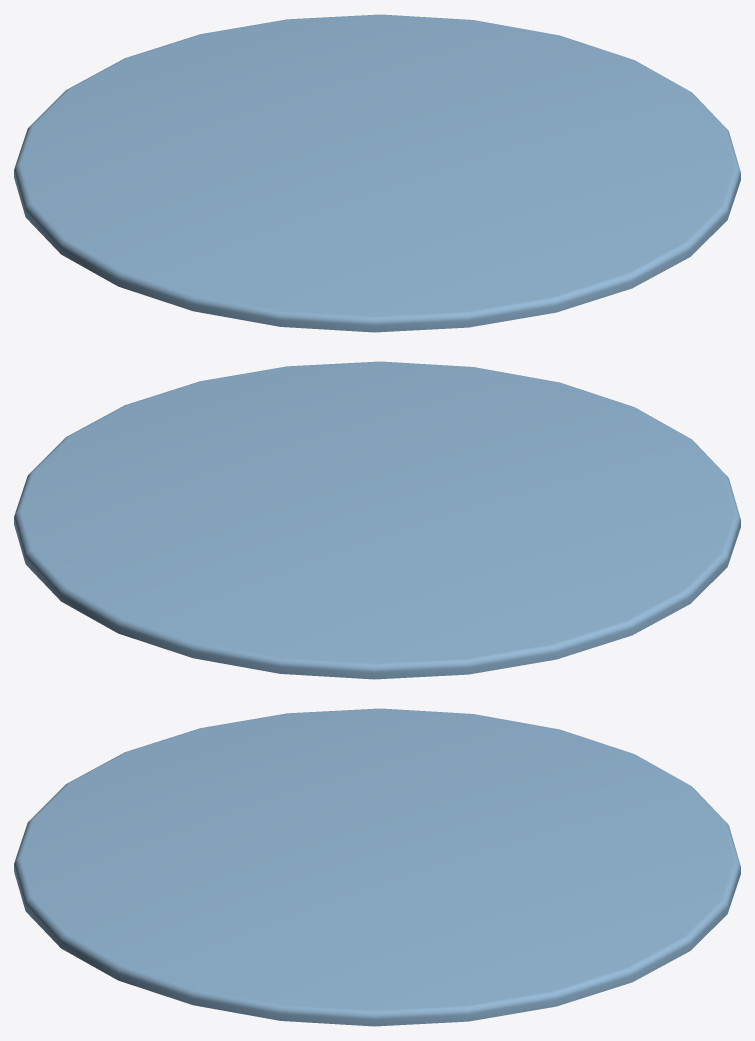
Rendered from original-1.obj.
The picture shows the model from 3 angles, top to bottom: view 1: azimuth 30°, elevation 25°; view 2: azimuth 150°, elevation 25°; view 3: azimuth 270°, elevation 25°; orthographic projection.
Parts seen in each view (by area): view 1: Group1/mesh1/mesh1-geometry#mesh1-geometry; view 2: Group1/mesh1/mesh1-geometry#mesh1-geometry; view 3: Group1/mesh1/mesh1-geometry#mesh1-geometry.
Part boxes in pixels (box(x1,y1,x2,y2)): Group1/mesh1/mesh1-geometry#mesh1-geometry: box(14, 14, 740, 332); Group1/mesh1/mesh1-geometry#mesh1-geometry: box(14, 361, 740, 679); Group1/mesh1/mesh1-geometry#mesh1-geometry: box(14, 708, 740, 1026).
Size of the model in its own units: 0.5796 by 0.0116 by 0.5796.
